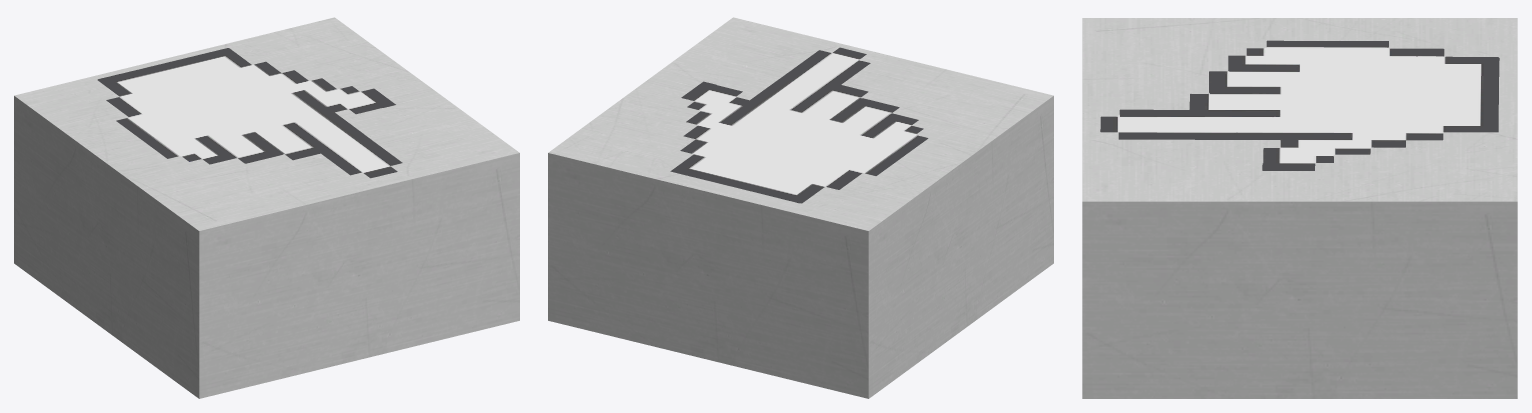
Rendered from wirelessbutton.obj.
The picture shows the model from 3 angles, left to right: view 1: azimuth 30°, elevation 25°; view 2: azimuth 150°, elevation 25°; view 3: azimuth 270°, elevation 25°; orthographic projection. The views are drawn at different scales.
Parts seen in each view (by area): view 1: Wirelessbutton1, Wirelessbutton2; view 2: Wirelessbutton1, Wirelessbutton2; view 3: Wirelessbutton1, Wirelessbutton2.
Boxes of the visible parts, <box> form: Wirelessbutton1: <box>14,17,519,398</box>; Wirelessbutton2: <box>97,48,402,178</box>; Wirelessbutton1: <box>548,17,1053,398</box>; Wirelessbutton2: <box>670,47,928,203</box>; Wirelessbutton1: <box>1082,18,1517,398</box>; Wirelessbutton2: <box>1100,40,1499,170</box>.
Bounding box in the file's own units: 2 × 1.02 × 2.
Materials: 2 (2 with a texture image).
